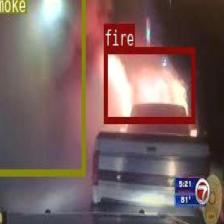fire: (104, 46, 194, 122)
smoke: (0, 0, 85, 175)
